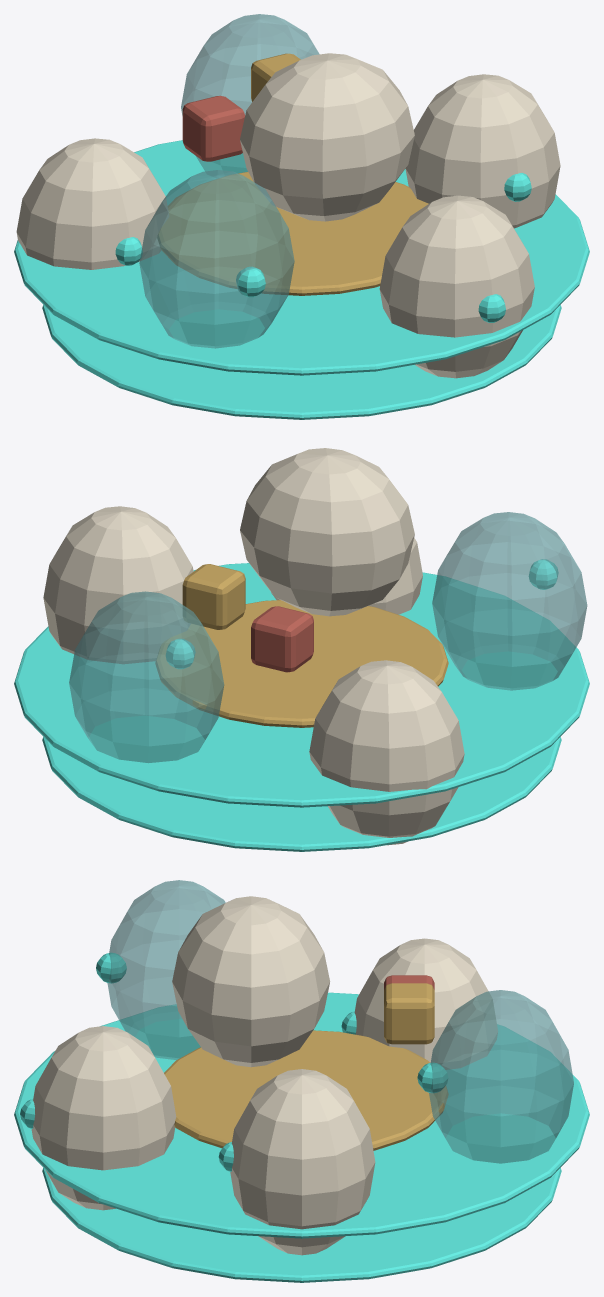
The model's file is Choir.fbx.
The picture shows the model from 3 angles, top to bottom: view 1: azimuth 30°, elevation 25°; view 2: azimuth 150°, elevation 25°; view 3: azimuth 270°, elevation 25°; orthographic projection.
Parts seen in each view (by area): view 1: GuardrailRing_1, Head, ChoirBody_3, ConductorRing, GuardrailRing_0, ChoirBody_4, ChoirBody_0, ChoirBody_2, ChoirBody_1, BurdenCrate_0, BurdenCrate_1, IntentEye_3 (+3 smaller); view 2: GuardrailRing_1, Head, ChoirBody_3, ChoirBody_1, ChoirBody_2, ConductorRing, ChoirBody_0, GuardrailRing_0, BurdenCrate_1, BurdenCrate_0, ChoirBody_4, IntentEye_1 (+1 smaller); view 3: GuardrailRing_1, Head, ChoirBody_1, GuardrailRing_0, ChoirBody_0, ChoirBody_4, ConductorRing, ChoirBody_3, ChoirBody_2, BurdenCrate_1, IntentEye_1, IntentEye_3.
Part boxes in pixels (x1,y1,x2,y2): GuardrailRing_1: [14, 140, 589, 375]; Head: [240, 53, 414, 221]; ChoirBody_3: [139, 170, 294, 348]; ConductorRing: [157, 172, 428, 295]; GuardrailRing_0: [42, 305, 561, 419]; ChoirBody_4: [379, 195, 534, 378]; ChoirBody_0: [405, 74, 560, 228]; ChoirBody_2: [16, 138, 168, 269]; ChoirBody_1: [181, 14, 319, 173]; BurdenCrate_0: [182, 95, 245, 161]; BurdenCrate_1: [251, 53, 300, 101]; IntentEye_3: [236, 266, 265, 297]; GuardrailRing_1: [14, 563, 589, 807]; Head: [240, 448, 414, 616]; ChoirBody_3: [432, 512, 587, 690]; ChoirBody_1: [69, 591, 224, 762]; ChoirBody_2: [309, 660, 464, 845]; ConductorRing: [155, 600, 448, 727]; ChoirBody_0: [43, 506, 193, 663]; GuardrailRing_0: [42, 737, 561, 851]; BurdenCrate_1: [182, 564, 245, 629]; BurdenCrate_0: [251, 606, 313, 672]; ChoirBody_4: [271, 537, 422, 614]; IntentEye_1: [165, 639, 195, 669]; GuardrailRing_1: [14, 992, 589, 1238]; Head: [172, 896, 330, 1067]; ChoirBody_1: [429, 990, 573, 1163]; GuardrailRing_0: [42, 1168, 561, 1282]; ChoirBody_0: [230, 1069, 375, 1255]; ChoirBody_4: [31, 1026, 176, 1210]; ConductorRing: [164, 1030, 448, 1150]; ChoirBody_3: [107, 880, 225, 1059]; ChoirBody_2: [354, 938, 497, 1069]; BurdenCrate_1: [384, 983, 434, 1044]; IntentEye_1: [417, 1062, 448, 1093]; IntentEye_3: [96, 952, 126, 983].
Bounding box in the file's own units: 2.04 × 1.11 × 2.04.
